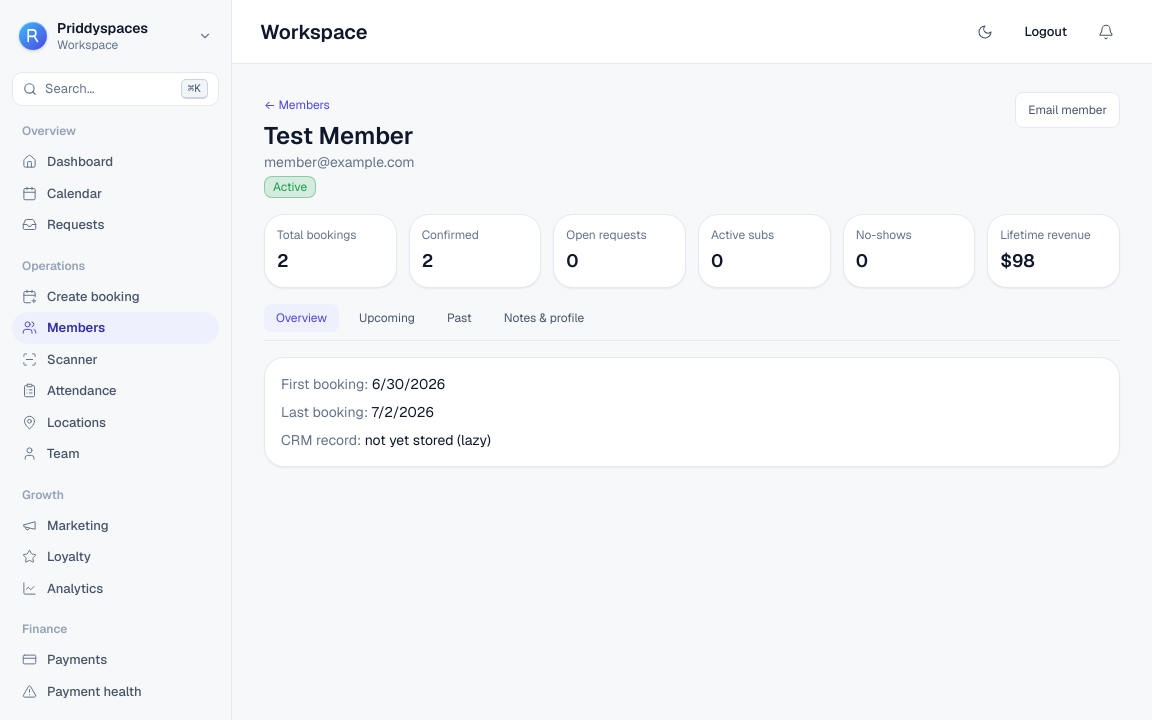
Scenario: OwnerMemberDetailClient › loads member-scoped calendar activity into upcoming and past tabs
Expected: the heading "Test Member" is shown, [264,120,414,152]
Click the button "Upcoming": (387, 318) [347,304,427,332]
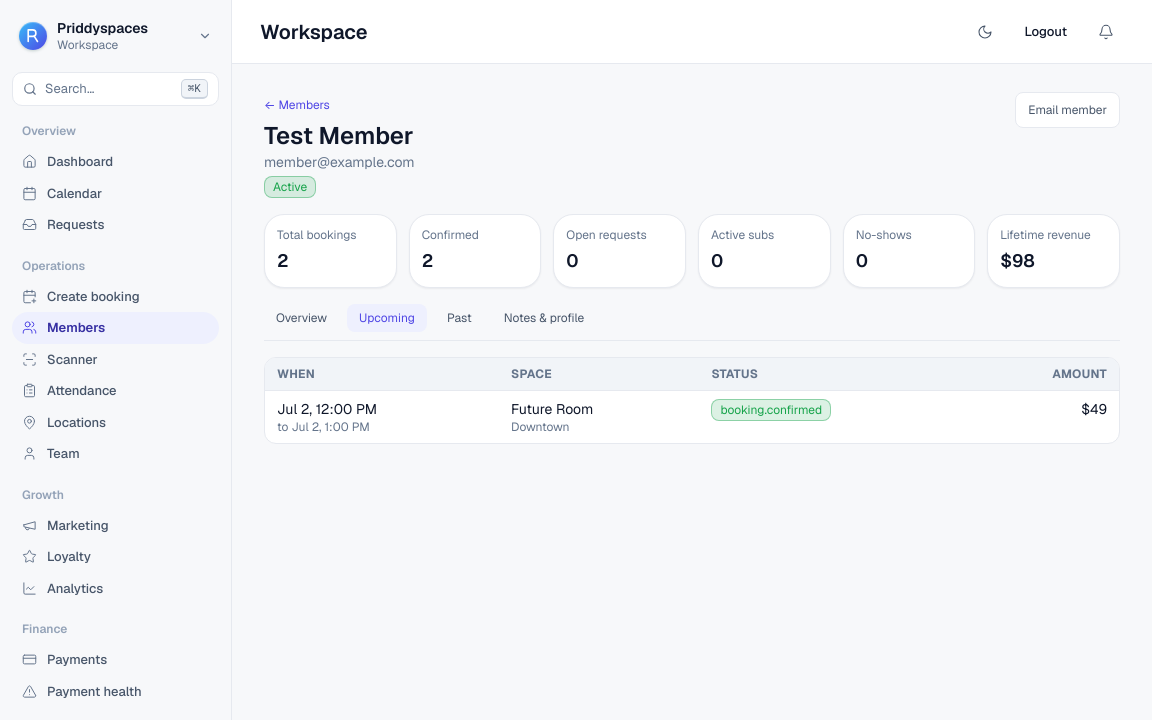
Expected: the text "Past Room" is not shown
Result: the text "Future Room" is shown at [511,400,593,418]
Click the button "Past": (459, 318) [435,304,484,332]
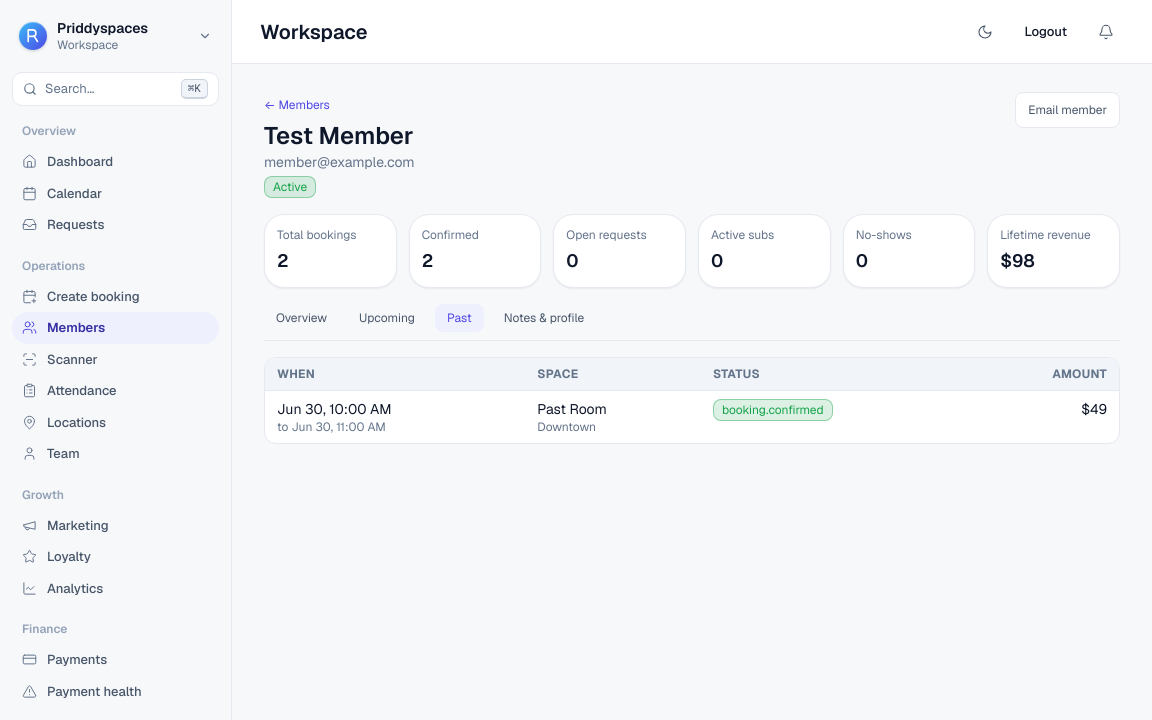
Result: the text "Past Room" is shown at [537,400,607,418]
Result: the text "Future Room" is gone
